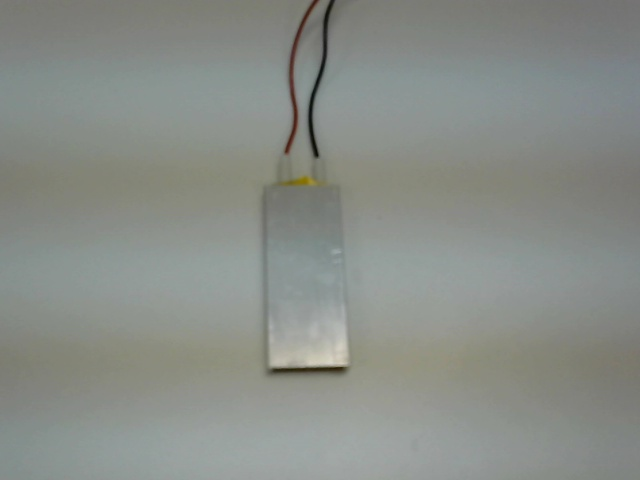heater: (251, 133, 379, 394)
